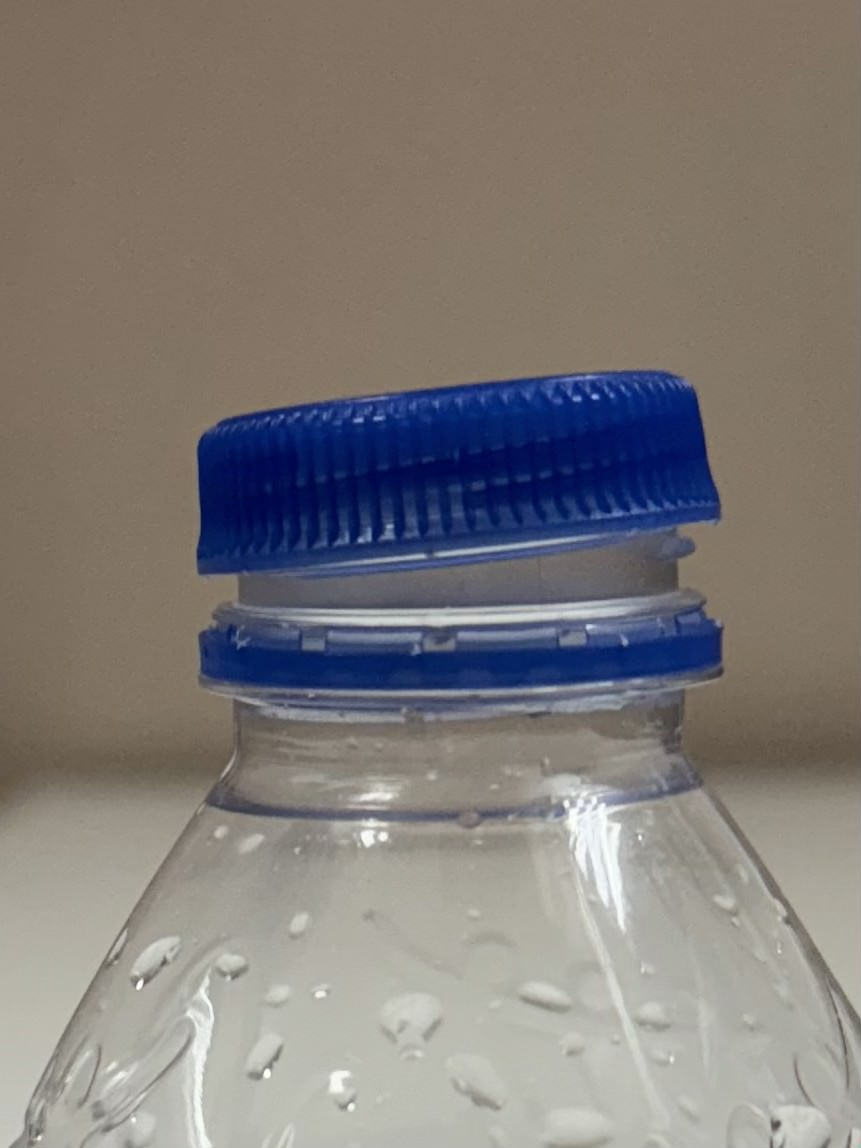half_cap: (173, 358, 743, 715)
